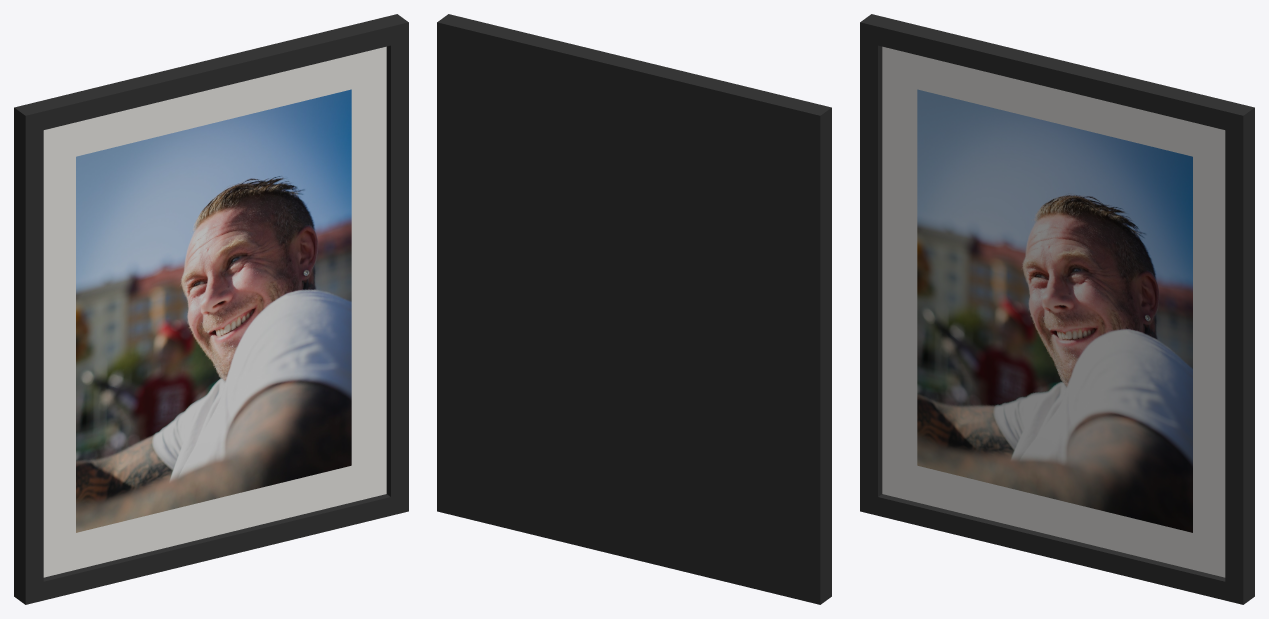
The model's file is vila-i-frid-40.gltf.
3 renders of one model, left to right at view 1: azimuth 30°, elevation 25°; view 2: azimuth 150°, elevation 25°; view 3: azimuth 330°, elevation 25°, orthographic.
Visible parts, largest first — view 1: tavla; view 2: tavla; view 3: tavla.
Part boxes in pixels (box(x1,y1,x2,y2)): tavla: box(14, 14, 408, 604); tavla: box(437, 14, 831, 604); tavla: box(860, 14, 1254, 604).
Size of the model in its own units: 0.4264 by 0.52 by 0.022.
3 materials, 1 textured.
